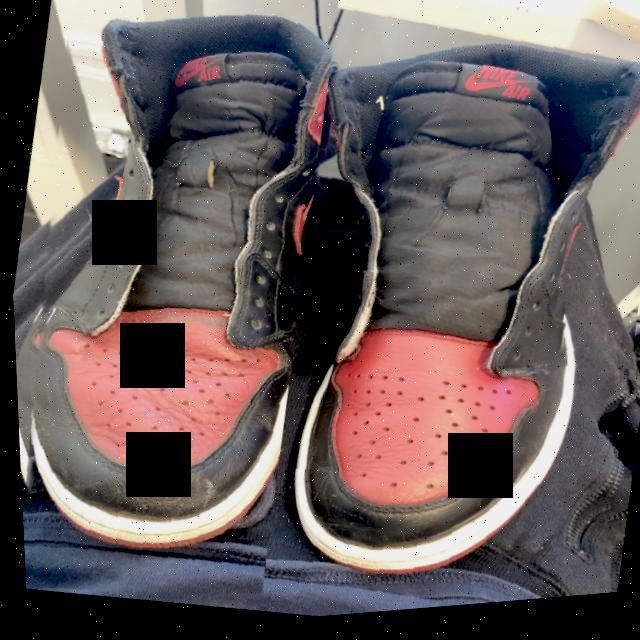shoe: (0, 0, 420, 638), (232, 0, 640, 625)
